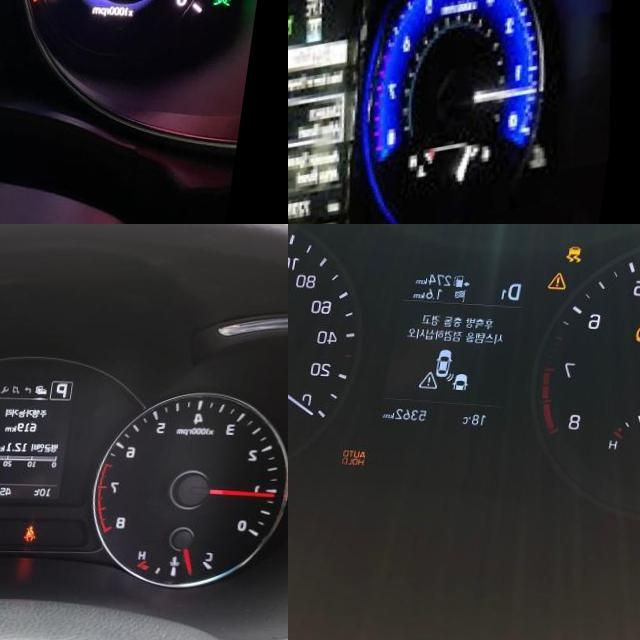Central Warning lamp: (554, 271, 576, 289)
SideLamp: (224, 0, 245, 4)
